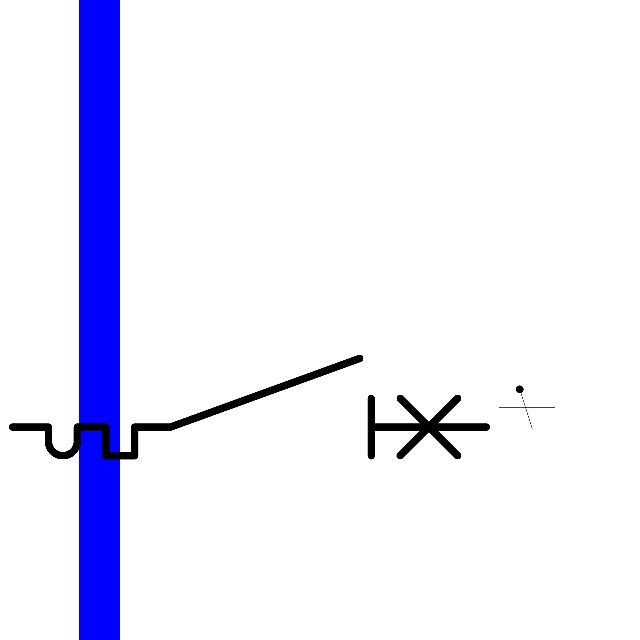interruptor_termomagnetico: (0, 346, 498, 468)
